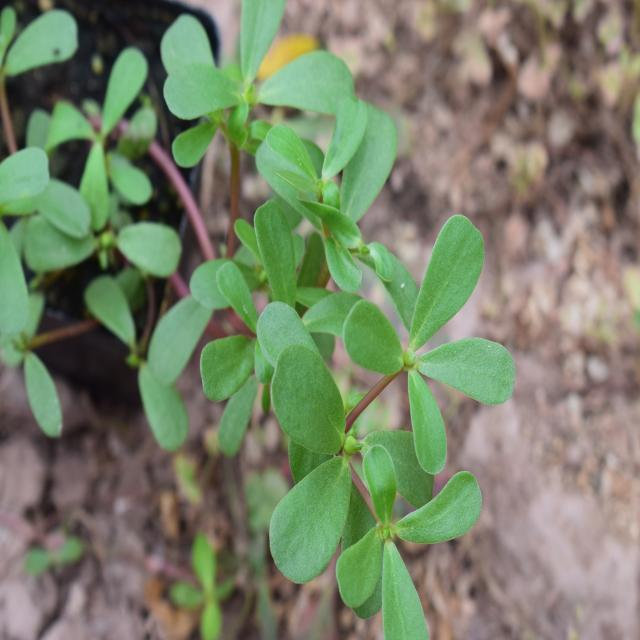purslane: (148, 10, 508, 634), (0, 49, 208, 424)
